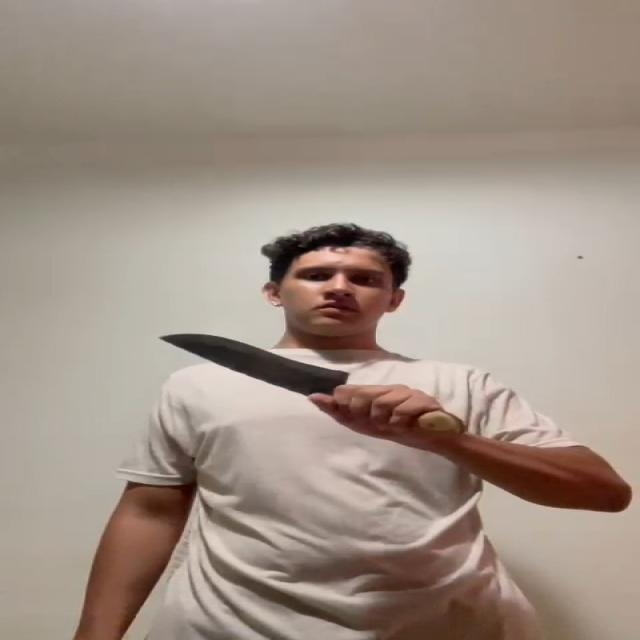knife: (153, 330, 350, 392)
